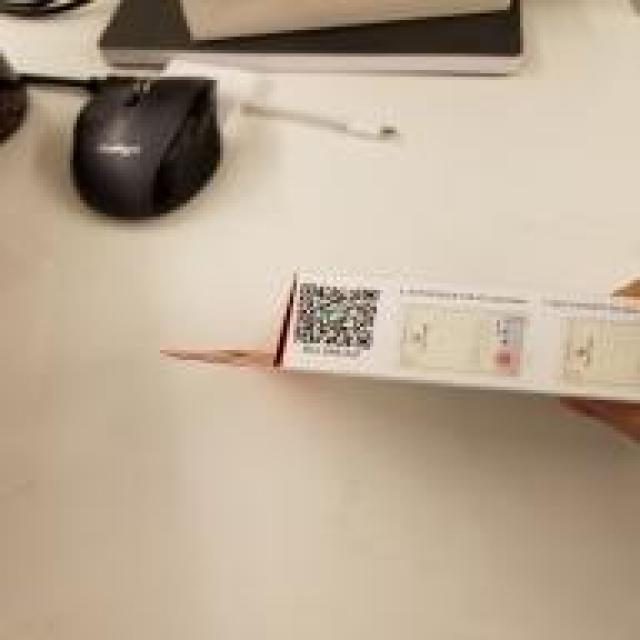QR_CODE: (275, 280, 390, 358)
